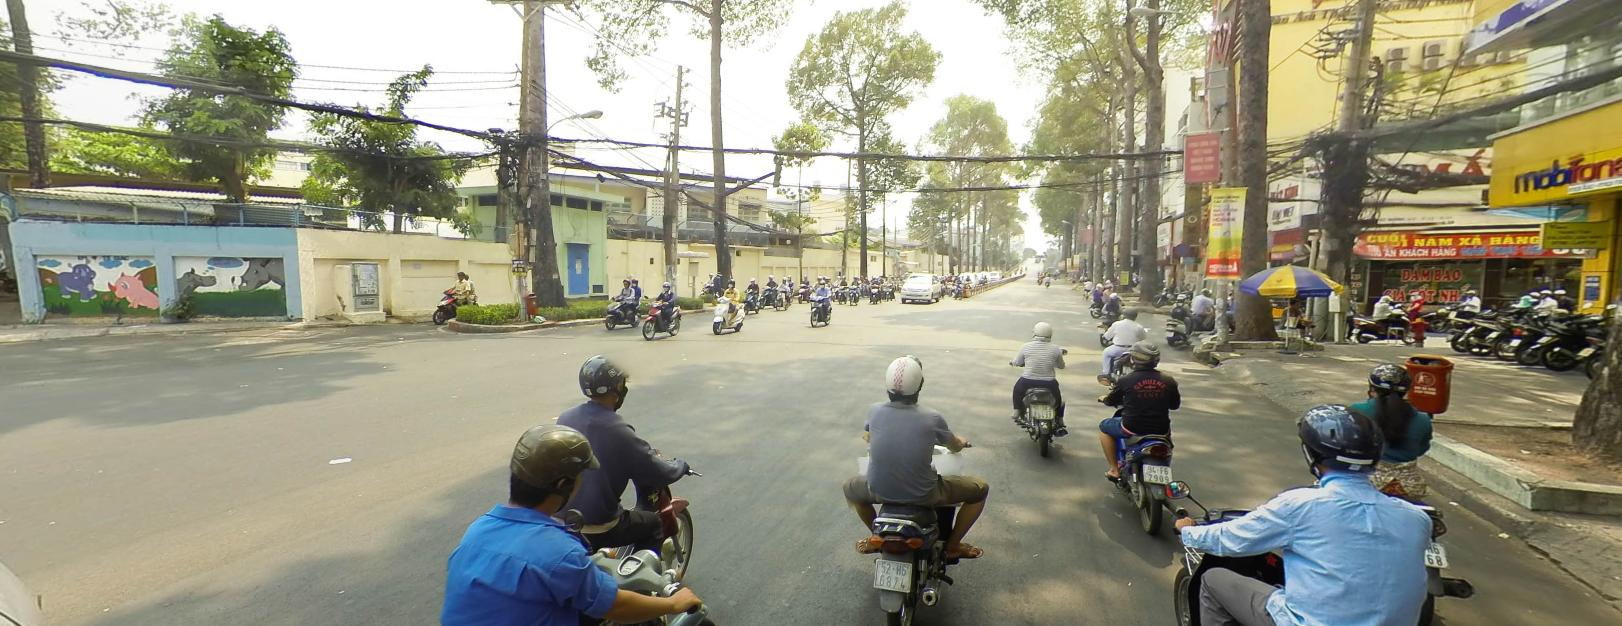Cam dung va do: (1175, 241, 1190, 256)
